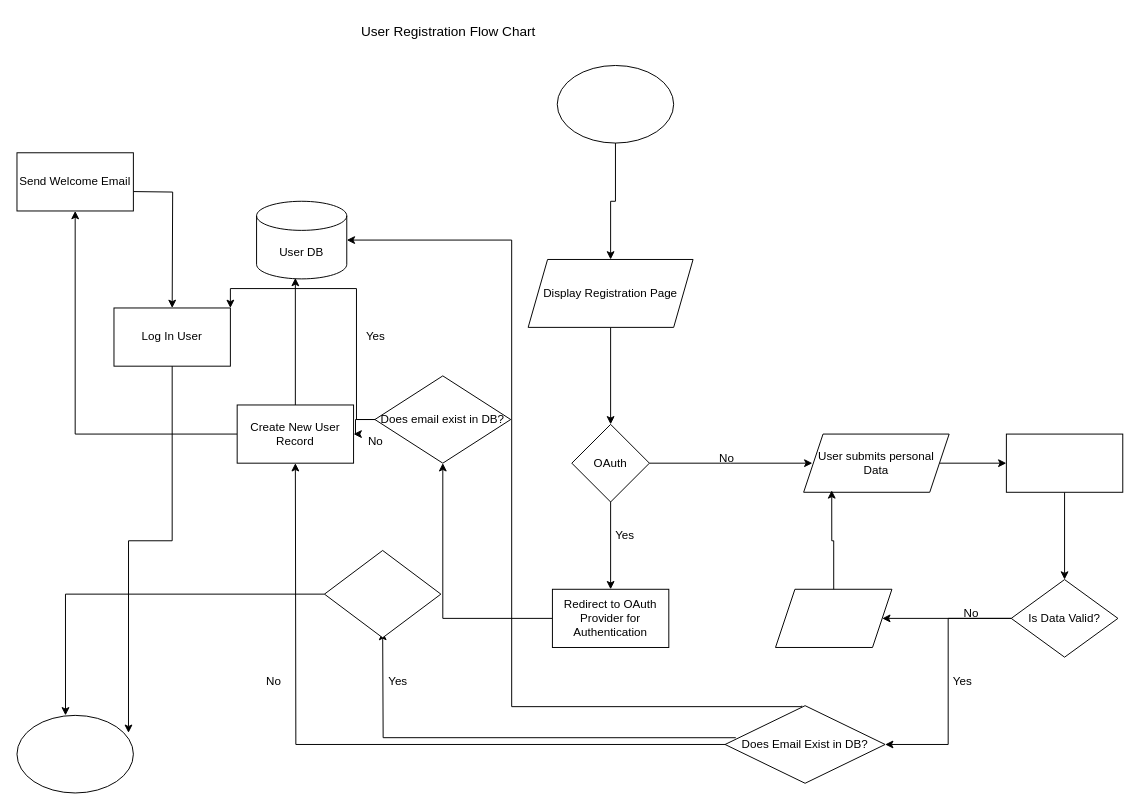
Image size: 1140x810. Some labels were removed from this diagram. Each missing label, with the box of its shape:
Display Error Message: (775, 588, 892, 647)
End: (16, 714, 133, 793)
Start: (556, 65, 674, 143)
User exists in DB: (323, 550, 441, 638)
Validate User Input: (1005, 433, 1123, 492)
